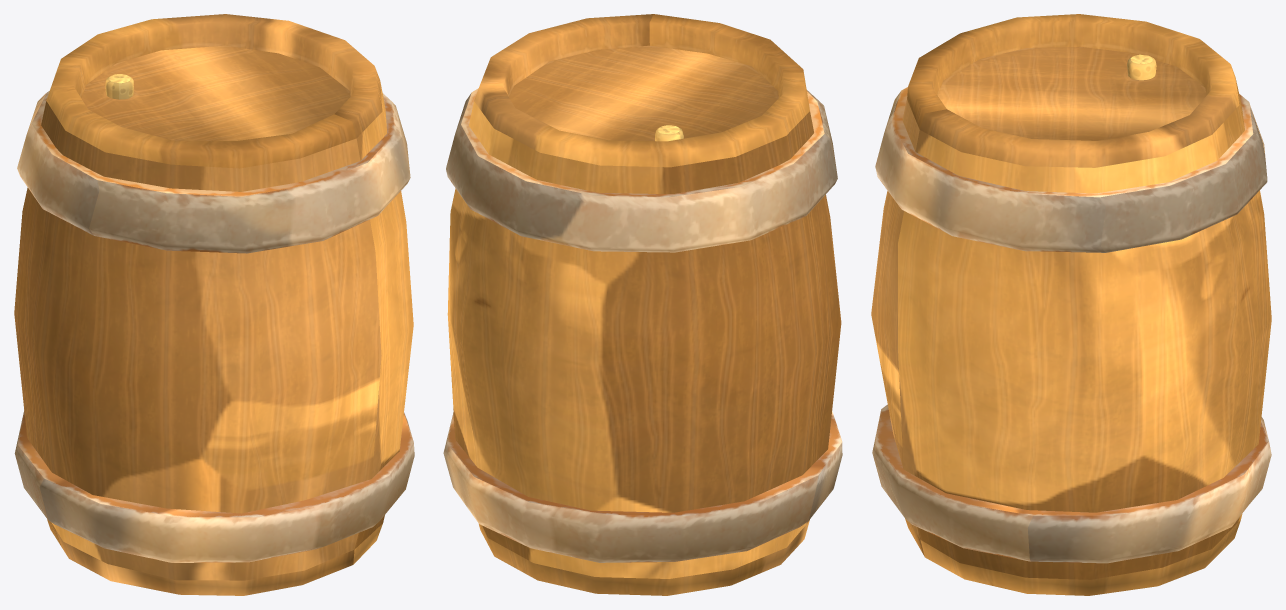
Rendered from SM_Stylized_Barrel.fbx.
3 renders of one model, left to right at view 1: azimuth 30°, elevation 25°; view 2: azimuth 150°, elevation 25°; view 3: azimuth 270°, elevation 25°, orthographic.
Visible parts, largest first — view 1: _Stylized_Barrel_LOD0; view 2: _Stylized_Barrel_LOD0; view 3: _Stylized_Barrel_LOD0.
Part boxes in pixels (bbox=[...]): _Stylized_Barrel_LOD0: bbox=[14, 14, 414, 595]; _Stylized_Barrel_LOD0: bbox=[443, 14, 842, 595]; _Stylized_Barrel_LOD0: bbox=[871, 14, 1271, 595].
Size of the model in its own units: 81.34 by 81.53 by 100.
